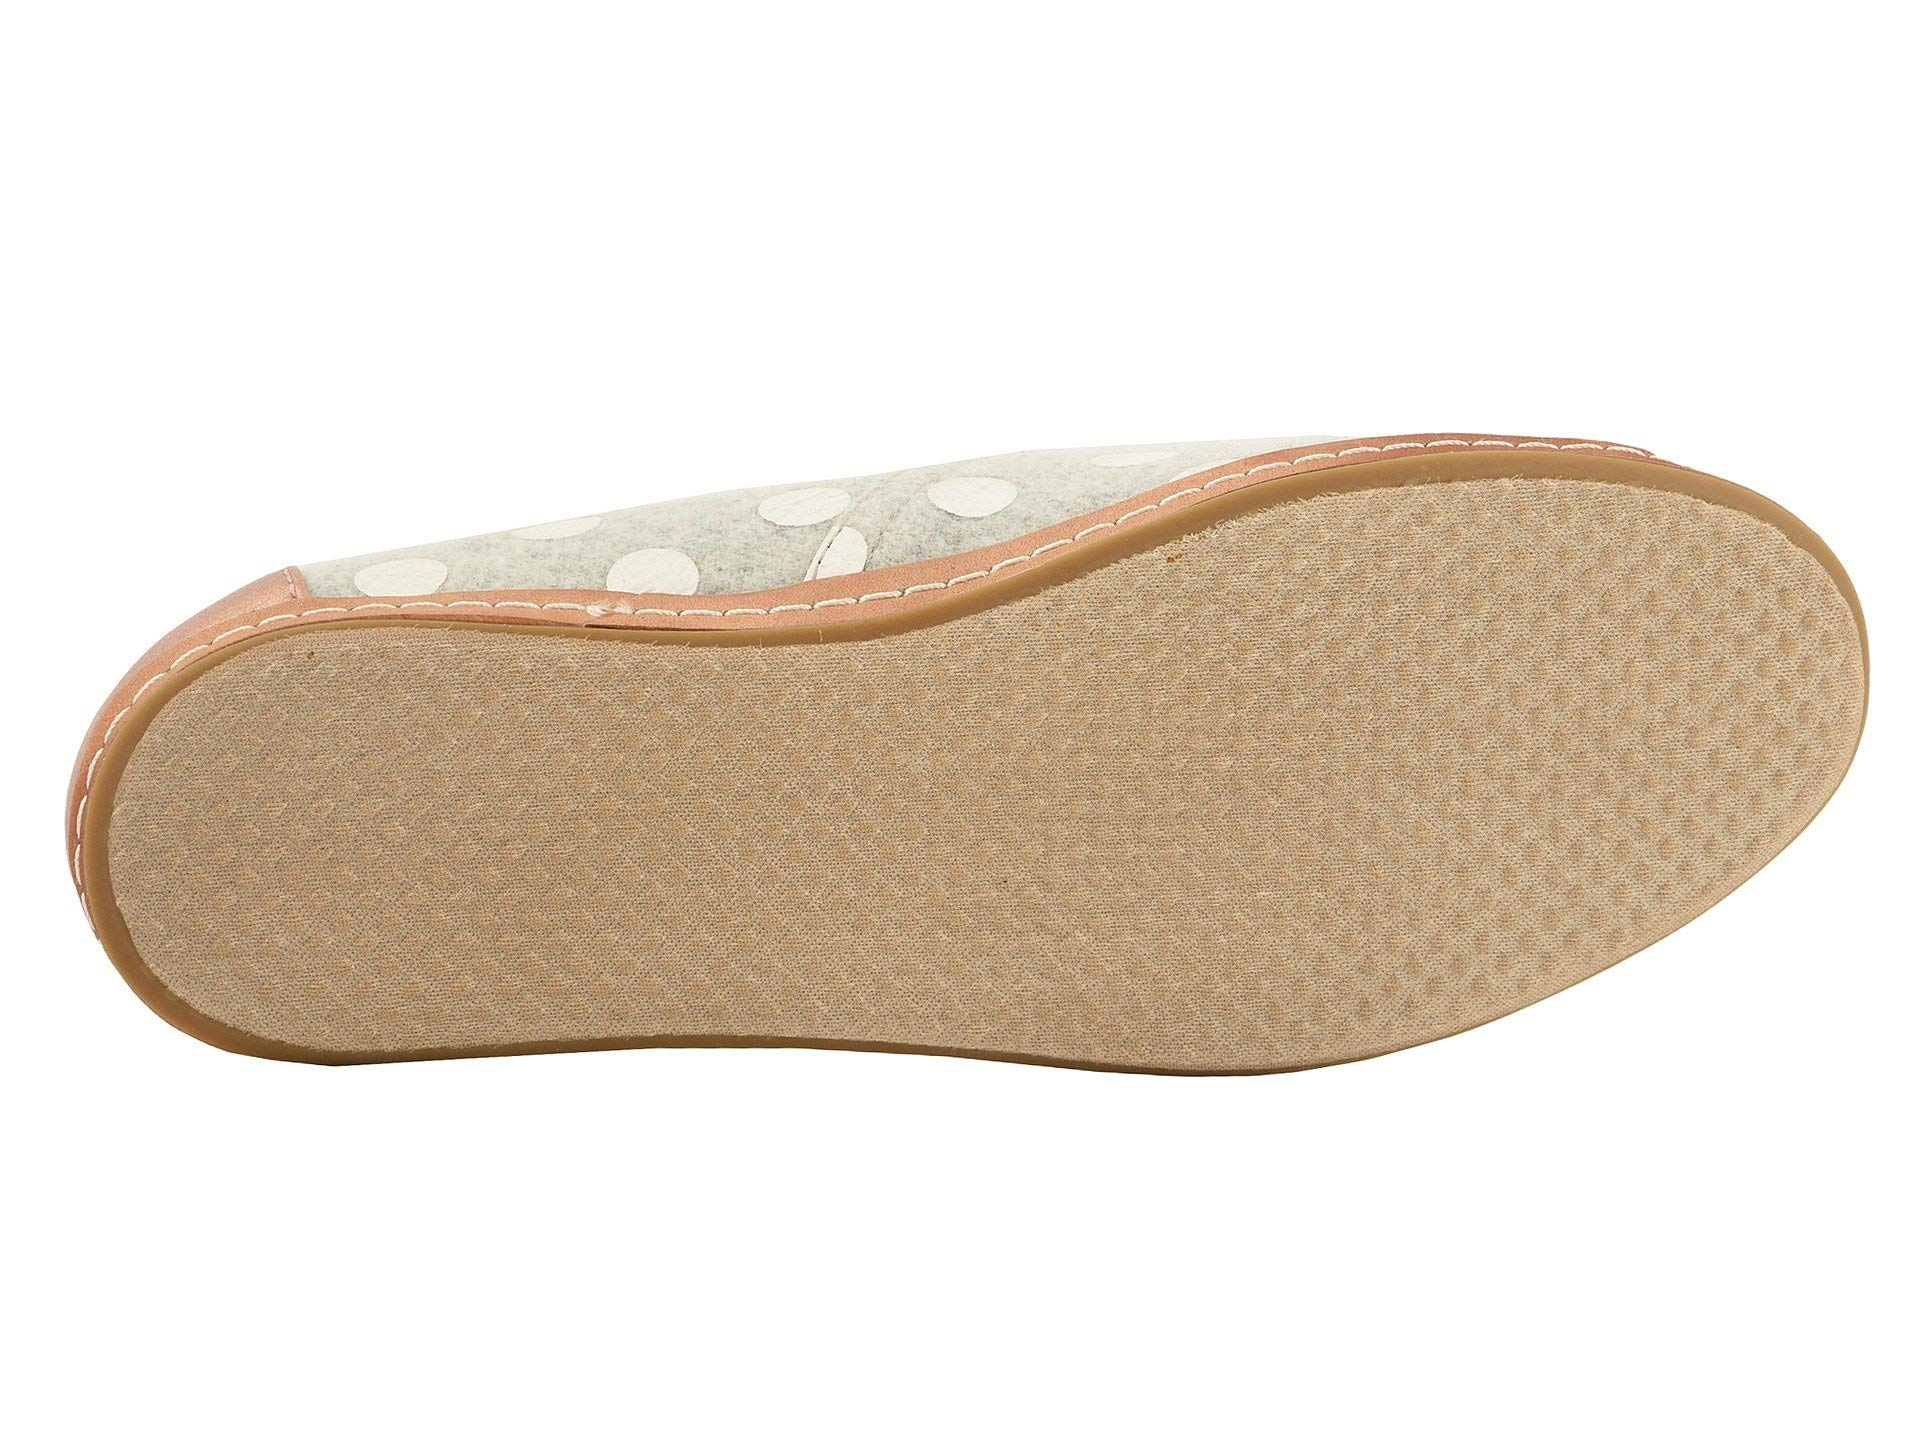other: (286, 619, 1651, 920)
